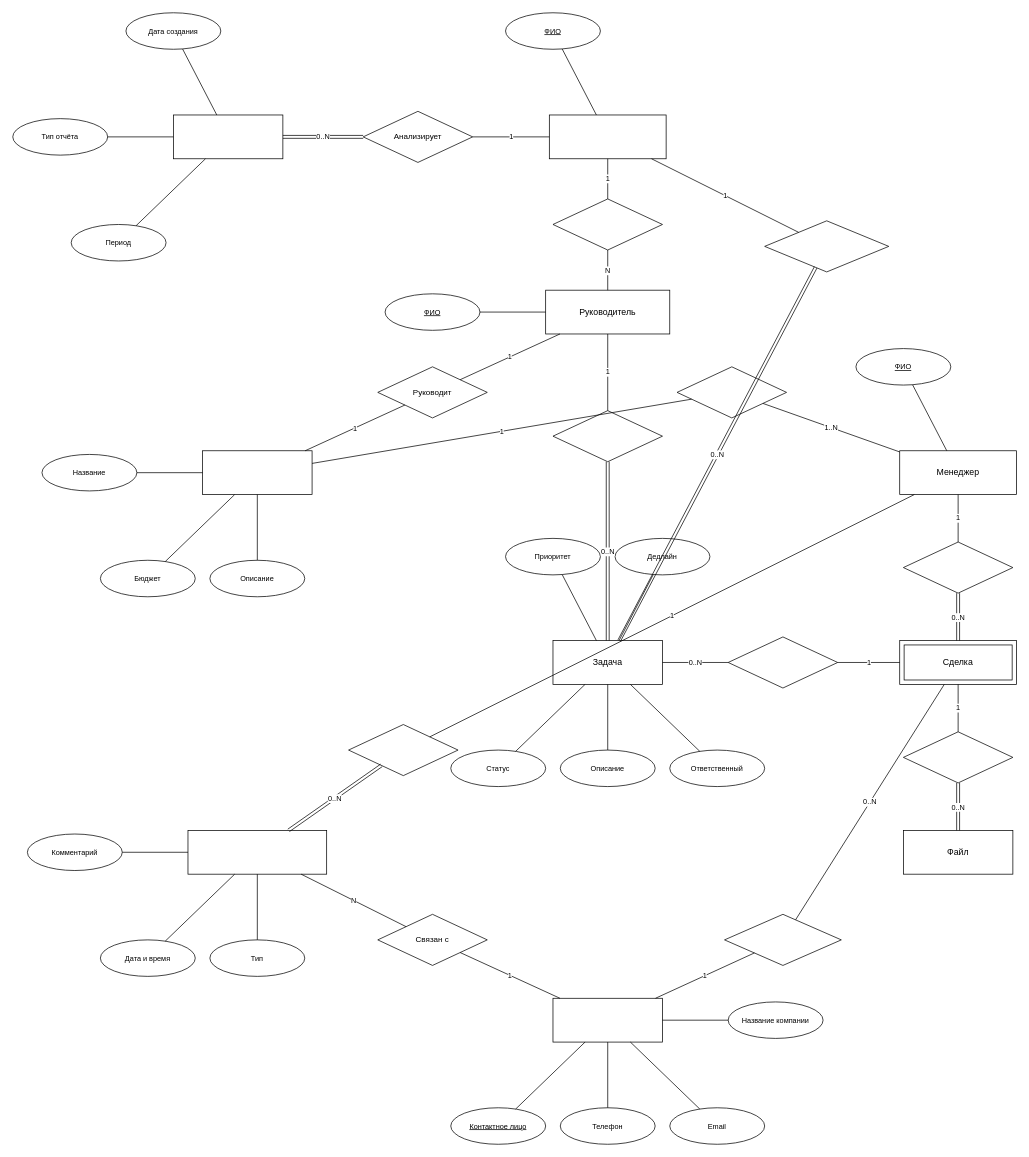
The diagram is 1029 pixels wide and 1157 high, and some of its shapes have lost their labels. The shapes that lost their labels are listed below. From the top down, each one's centre as x and y in pixels, then its label:
[228,136]: Отчёт
[607,136]: Администратор
[607,224]: Управляет
[826,246]: Имеет доступ
[731,392]: Работает в
[607,436]: Редактирует
[257,472]: Отдел
[958,567]: Работает с
[782,662]: Порождает
[403,750]: Совершает
[958,757]: Содержит
[257,852]: Взаимодействие
[782,939]: Инициирует
[607,1020]: Клиент
